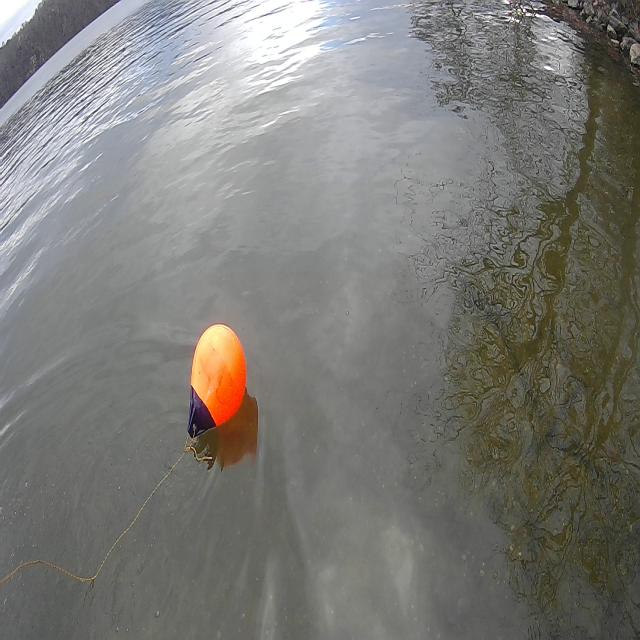Buoy: (190, 322, 247, 430)
